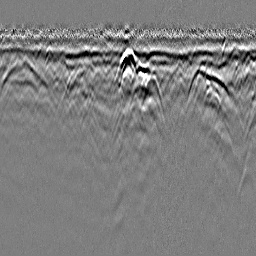cavity: (116, 48, 139, 86)
